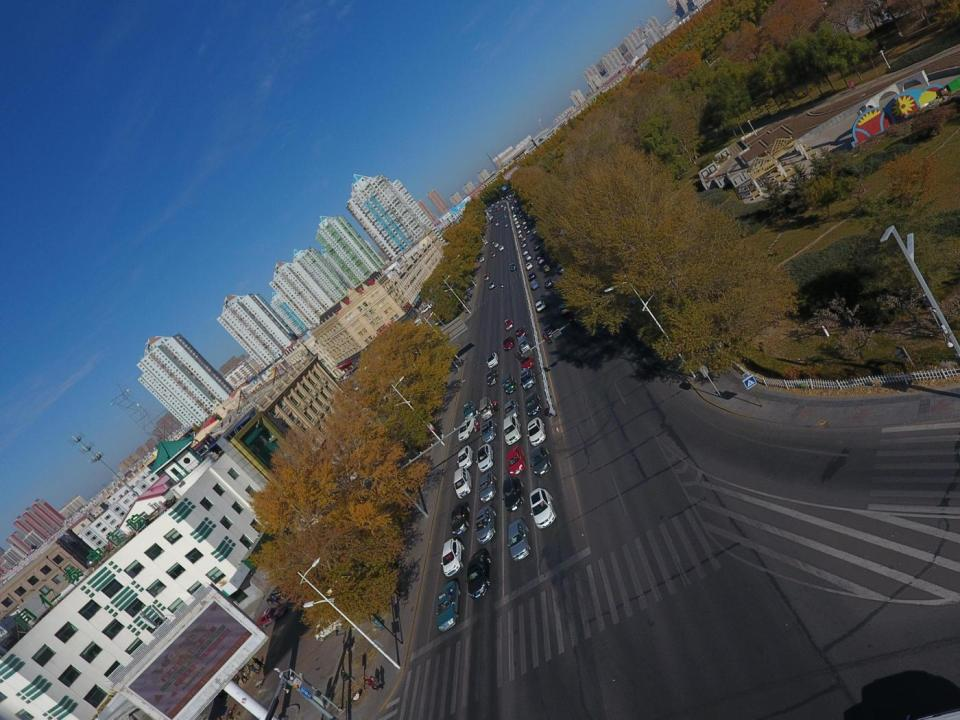bus: (495, 205, 499, 211)
car: (436, 580, 460, 633), (467, 548, 491, 600), (528, 488, 558, 528), (507, 517, 531, 562), (474, 504, 496, 544), (442, 538, 465, 576), (255, 603, 289, 628), (503, 476, 525, 512), (529, 445, 552, 477), (450, 501, 470, 536), (266, 583, 296, 605), (506, 445, 526, 477), (478, 471, 497, 503), (504, 416, 524, 445), (527, 417, 546, 446), (458, 417, 477, 442), (524, 391, 543, 416), (478, 443, 494, 472), (481, 418, 498, 442), (457, 445, 474, 468), (520, 368, 537, 390), (504, 398, 520, 420), (462, 400, 476, 419), (520, 354, 534, 371), (542, 322, 555, 339), (486, 369, 498, 387), (558, 301, 570, 318), (514, 325, 527, 340), (487, 352, 498, 369), (503, 335, 514, 351), (535, 300, 546, 312), (504, 318, 514, 330), (543, 278, 553, 290), (433, 318, 447, 326), (421, 304, 432, 314), (410, 322, 422, 330), (342, 372, 351, 380), (339, 374, 348, 382), (526, 261, 534, 270), (558, 264, 565, 274), (543, 264, 551, 272), (489, 280, 496, 289), (528, 273, 536, 280), (537, 256, 544, 264), (536, 252, 543, 259), (522, 249, 529, 256), (483, 273, 489, 281), (533, 244, 539, 250), (479, 256, 485, 262), (521, 242, 526, 248), (532, 229, 538, 234), (493, 242, 499, 247), (499, 245, 504, 251), (526, 255, 531, 260), (521, 236, 526, 241), (491, 252, 496, 257), (484, 239, 488, 245), (518, 234, 522, 239), (526, 230, 530, 234), (516, 224, 520, 228), (520, 218, 524, 222), (513, 217, 517, 221), (519, 214, 523, 218), (490, 240, 494, 244), (517, 229, 521, 232), (523, 226, 527, 229), (522, 221, 526, 224), (515, 220, 518, 224), (500, 204, 503, 207), (500, 216, 503, 219), (503, 215, 506, 218), (518, 211, 522, 213), (512, 215, 516, 217), (492, 210, 495, 212), (504, 206, 507, 208), (491, 220, 494, 222), (504, 224, 507, 226), (496, 223, 499, 225), (503, 209, 505, 211), (496, 219, 498, 221)
truck: (412, 318, 423, 326)
van: (453, 467, 473, 498), (478, 396, 494, 421), (502, 373, 517, 394), (518, 335, 532, 352), (350, 363, 362, 376), (530, 278, 539, 291), (510, 262, 516, 270)
